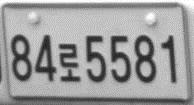1: (160, 33, 177, 83)
4: (33, 33, 57, 82)
5: (85, 34, 106, 83), (110, 35, 131, 83)
8: (133, 34, 156, 82), (10, 33, 32, 80)
로: (58, 42, 81, 82)
